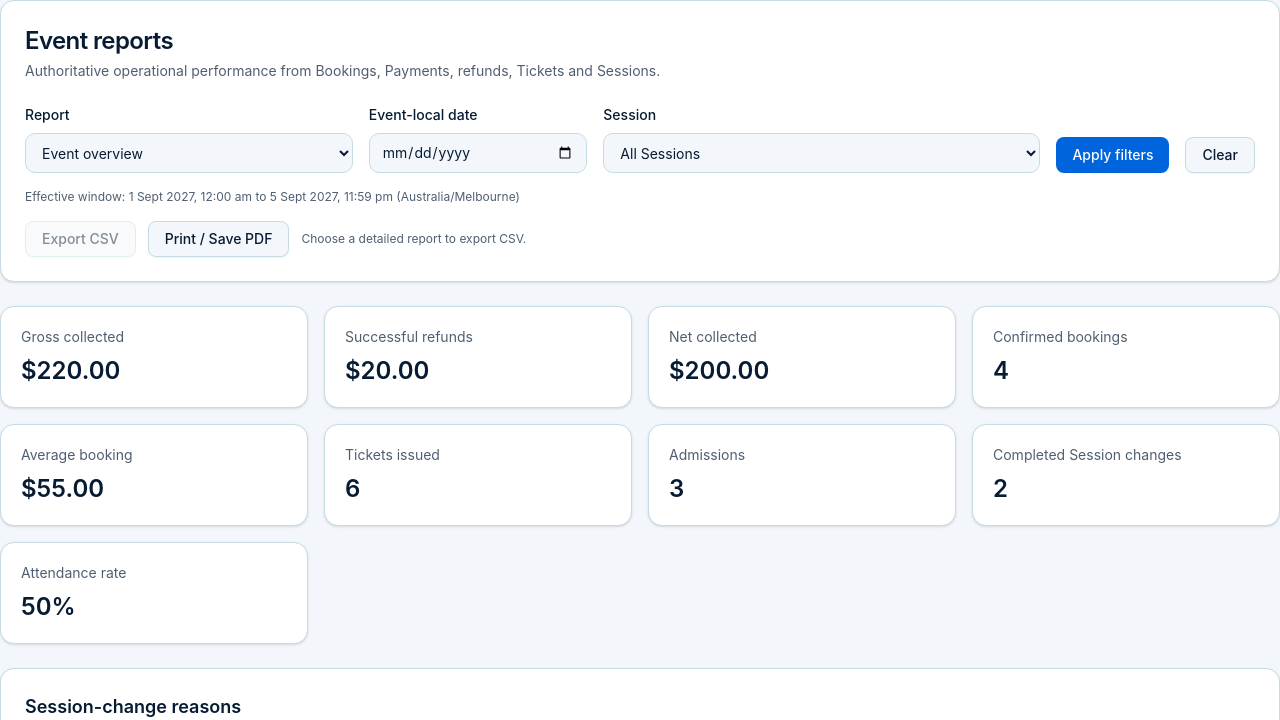
it: EventReportsWorkspace › shows Session commercial performance and shared capacity
expect the text "$200.00" is shown: met, box [669,356,769,385]
Select "Sales by Session" in the dropdown labelled "Report" at (189, 153), box [25,133,353,173]
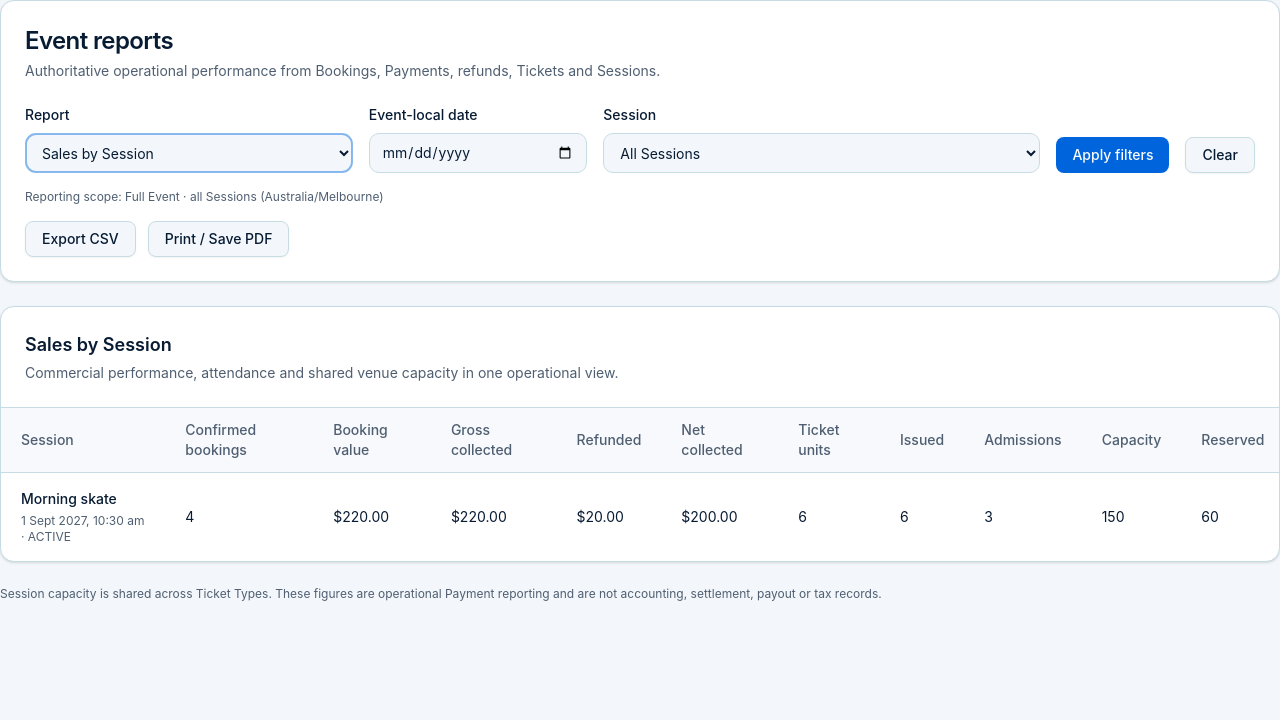
expect the heading "Sales by Session" is shown: met, box [25,334,172,355]
expect the text "$220.00" is shown 2 times: met, box [313,472,431,561]; [431,472,557,561]
expect the text "capacity is shared across Ticket Types" is shown: met, box [0,586,882,601]
